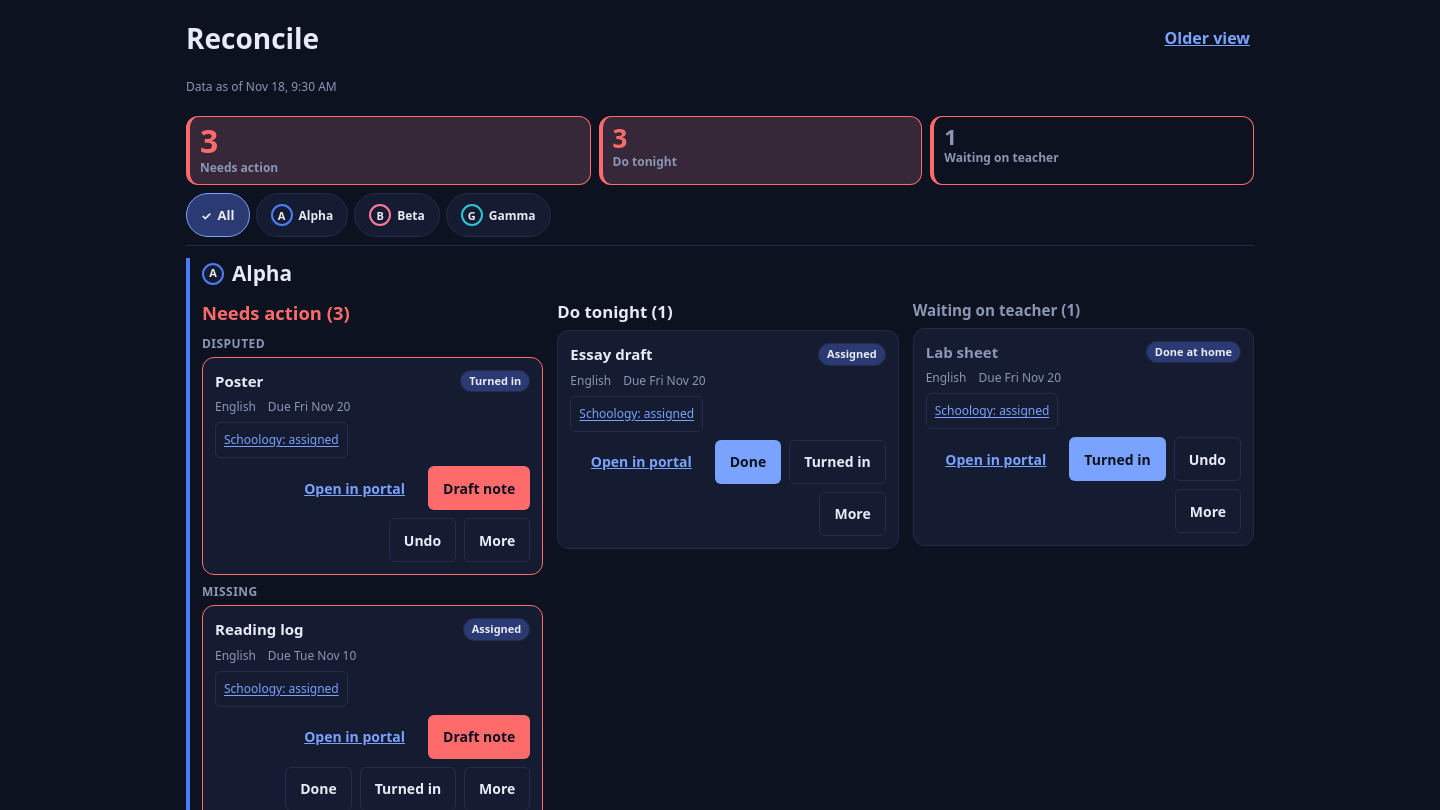
the server answer replaces the optimistic row
Expected: the heading "Alpha" is shown, [232, 258, 292, 289]
Click the button with aria-label "Mark Essay draft (English, Alpha) turned in" at [838, 462], box [789, 440, 886, 484]
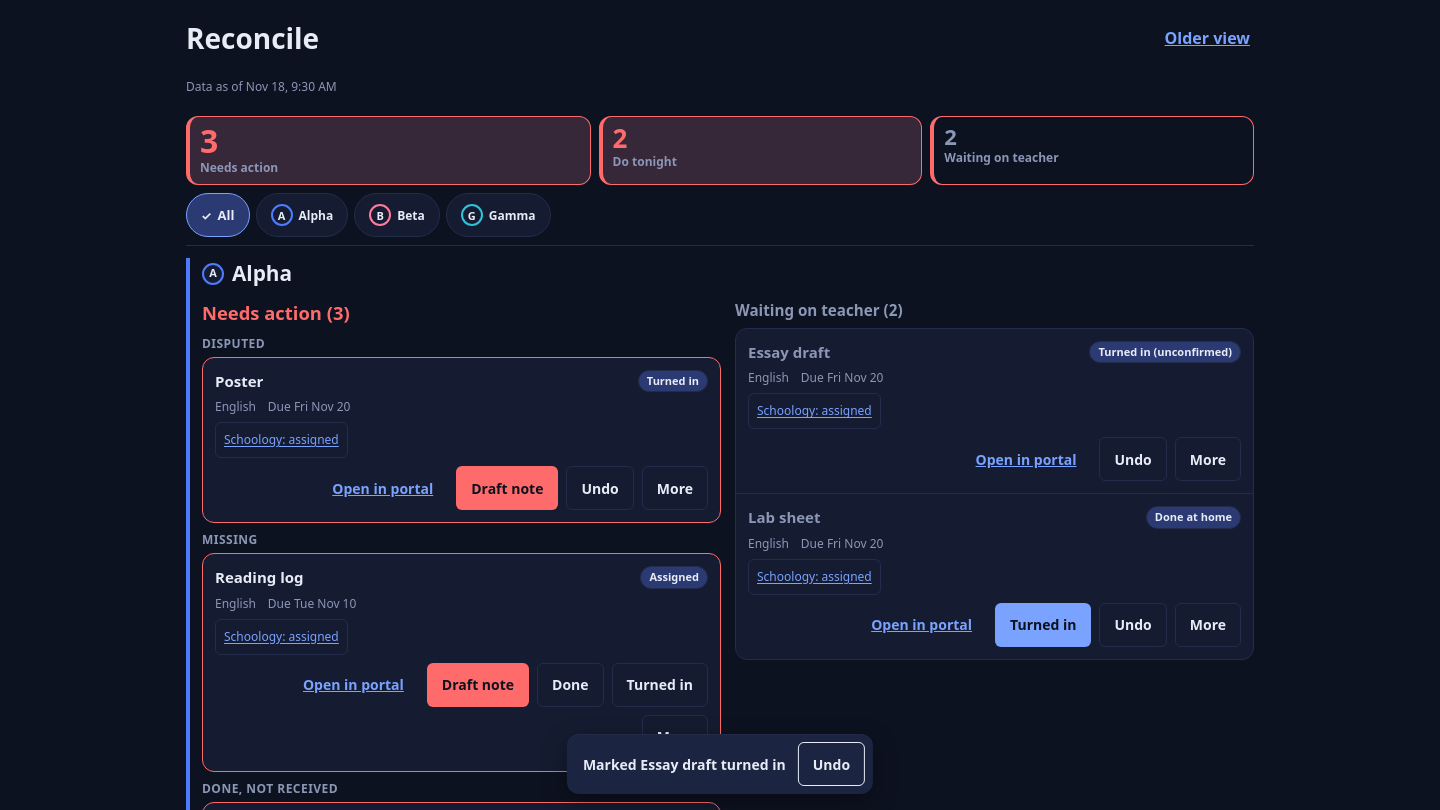
Expected: the text "Turned in (unconfirmed)" is shown, [1090, 341, 1241, 364]
